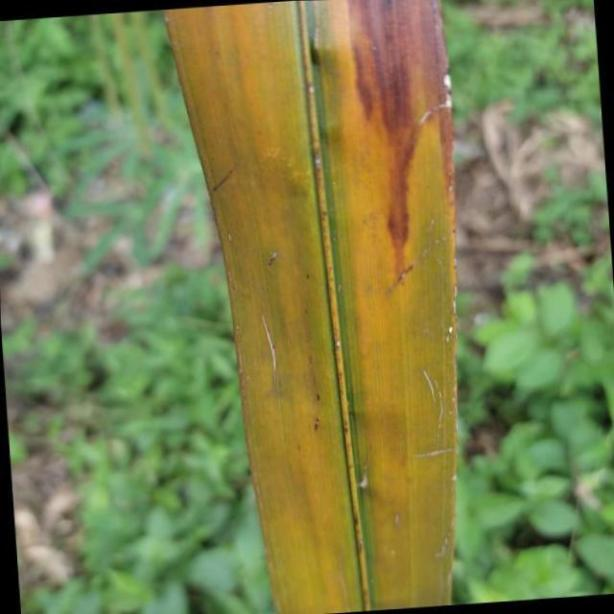Megnesium: (161, 0, 459, 614)
